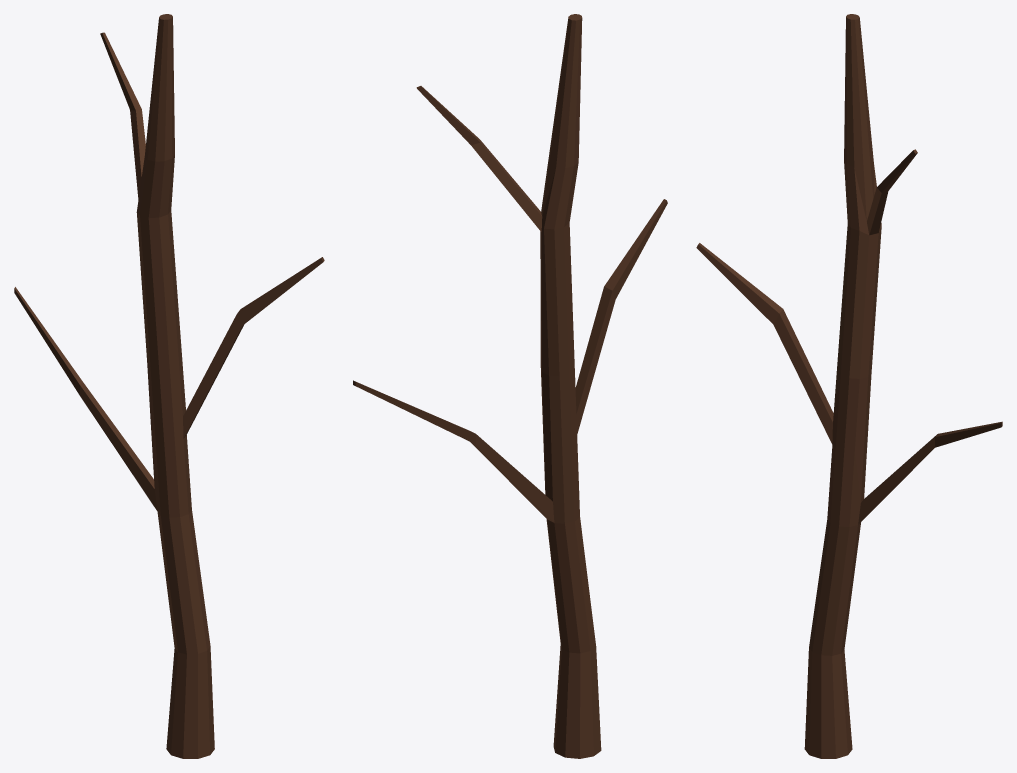
The model's file is pine03__mesh_LOD.fbx.
The picture shows the model from 3 angles, left to right: view 1: azimuth 90°, elevation 25°; view 2: azimuth 150°, elevation 25°; view 3: azimuth 270°, elevation 25°; orthographic projection. The views are drawn at different scales.
Parts seen in each view (by area): view 1: pine03__mesh_LOD0; view 2: pine03__mesh_LOD0; view 3: pine03__mesh_LOD0.
Boxes of the visible parts, bbox=[...] form: pine03__mesh_LOD0: bbox=[14, 14, 324, 758]; pine03__mesh_LOD0: bbox=[353, 14, 667, 758]; pine03__mesh_LOD0: bbox=[696, 14, 1002, 758].
Size of what is drawn, in the model's own units: 303 by 1348 by 514.
Materials: 1 (1 with a texture image).
